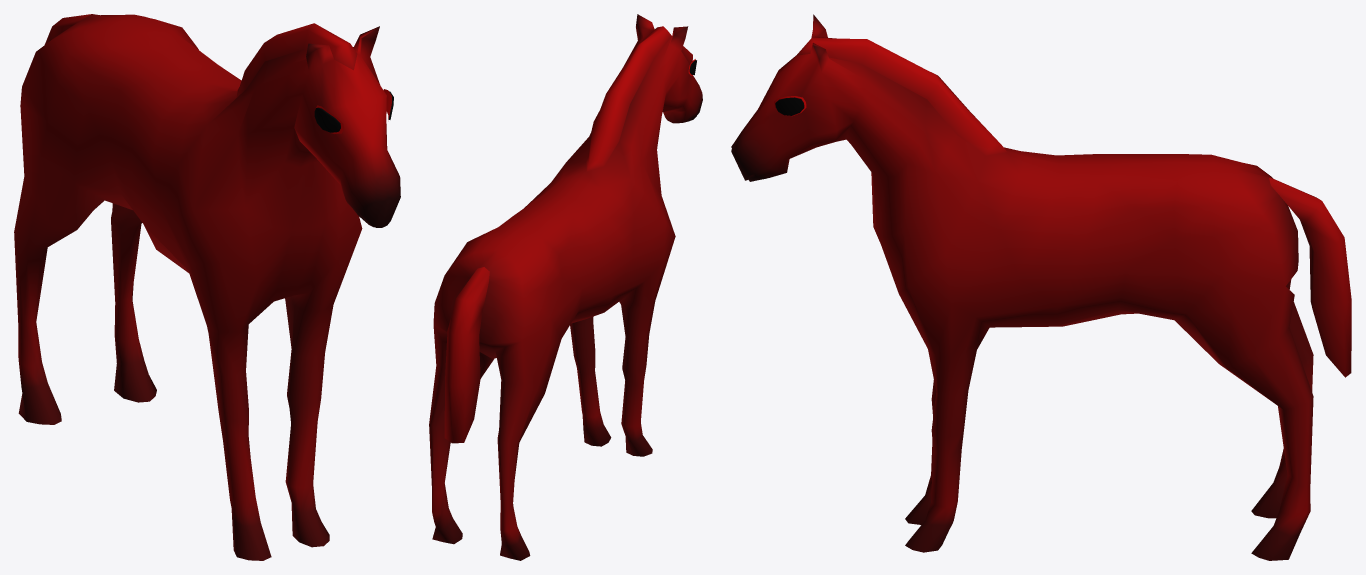
File: Animals_PalominoHorse.fbx
3 views of the same model, side by side, from view 1: azimuth 30°, elevation 25°; view 2: azimuth 150°, elevation 25°; view 3: azimuth 270°, elevation 25° (orthographic). The views are drawn at different scales.
Visible parts, largest first — view 1: base; view 2: base; view 3: base.
Part boxes in pixels (box(x1,y1,x2,y2)): base: box(14, 14, 400, 560); base: box(429, 14, 702, 560); base: box(731, 14, 1351, 560).
Size of the model in its own units: 56.05 by 191 by 214.
